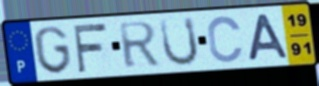A: (246, 12, 290, 62)
C: (205, 14, 246, 65)
F: (70, 21, 109, 74)
G: (32, 24, 74, 76)
R: (116, 20, 162, 71)
U: (158, 15, 201, 69)
